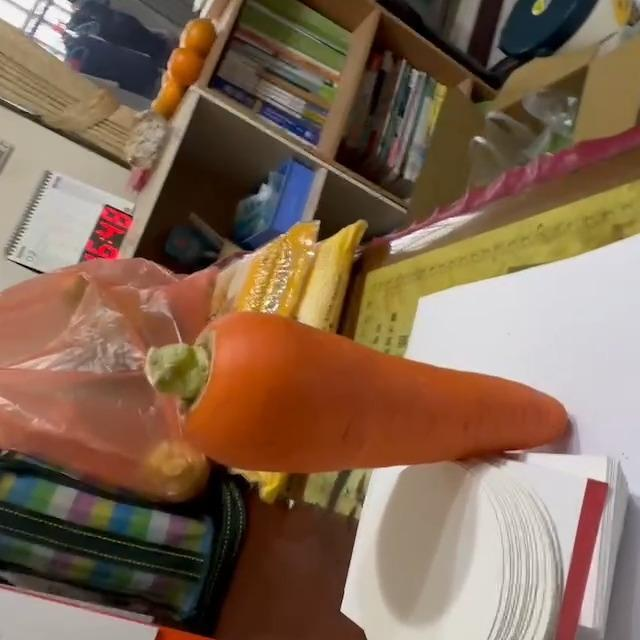carrot: (151, 309, 575, 476)
